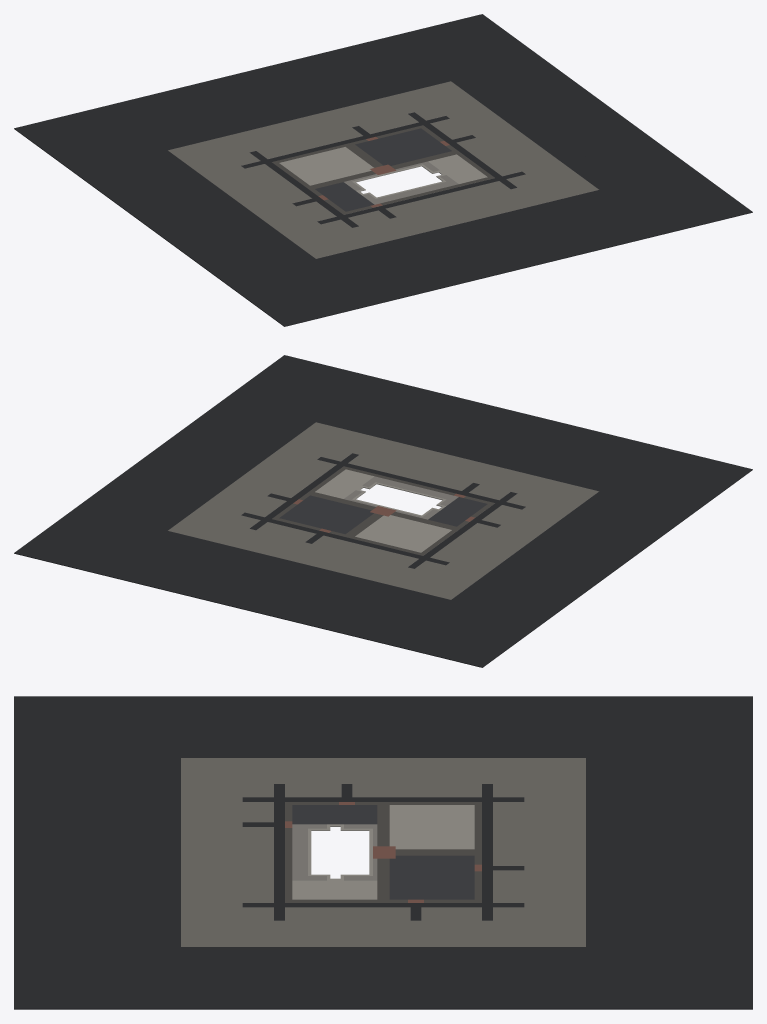
Rendered from HEX_City_01_MAIN_GROUND.fbx.
3 views of the same model, one above another, from view 1: azimuth 30°, elevation 25°; view 2: azimuth 150°, elevation 25°; view 3: azimuth 270°, elevation 25° (orthographic). The views are drawn at different scales.
Parts seen in each view (by area): view 1: City_Street_01, City_Street_02, City_Street_04, City_Street_03, City_Street_05, City_Street_06, City_Sidewalk_01, City_Sidewalk_02, City_Sidewalk_10, City_Sidewalk_09, City_Sidewalk_18, City_Sidewalk_20 (+14 smaller); view 2: City_Street_04, City_Street_03, City_Street_01, City_Street_02, City_Street_05, City_Street_06, City_Sidewalk_09, City_Sidewalk_10, City_Sidewalk_01, City_Sidewalk_02, City_Sidewalk_18, City_Sidewalk_20 (+14 smaller); view 3: City_Street_04, City_Street_02, City_Street_01, City_Street_03, City_Street_06, City_Street_05, City_Sidewalk_01, City_Sidewalk_02, City_Sidewalk_09, City_Sidewalk_10, City_Sidewalk_18, City_Sidewalk_20 (+19 smaller).
Part boxes in pixels (box(x1,y1,x2,y2)): City_Street_01: box(185, 196, 518, 326); City_Street_02: box(420, 139, 752, 269); City_Street_04: box(248, 14, 581, 143); City_Street_03: box(14, 71, 346, 201); City_Street_05: box(113, 162, 343, 253); City_Street_06: box(423, 86, 653, 177); City_Sidewalk_01: box(293, 208, 457, 258); City_Sidewalk_02: box(435, 173, 598, 224); City_Sidewalk_10: box(309, 81, 473, 132); City_Sidewalk_09: box(168, 116, 331, 166); City_Sidewalk_18: box(206, 164, 311, 212); City_Sidewalk_20: box(456, 128, 560, 176); City_Street_04: box(14, 480, 346, 610); City_Street_03: box(248, 537, 581, 667); City_Street_01: box(420, 412, 752, 542); City_Street_02: box(185, 355, 518, 484); City_Street_05: box(423, 503, 653, 594); City_Street_06: box(113, 427, 343, 518); City_Sidewalk_09: box(309, 549, 473, 599); City_Sidewalk_10: box(168, 514, 331, 565); City_Sidewalk_01: box(435, 457, 598, 507); City_Sidewalk_02: box(293, 422, 457, 473); City_Sidewalk_18: box(430, 523, 535, 571); City_Sidewalk_20: box(232, 450, 336, 497); City_Street_04: box(482, 852, 752, 1009); City_Street_02: box(14, 852, 284, 1009); City_Street_01: box(14, 696, 284, 852); City_Street_03: box(482, 696, 752, 852); City_Street_06: box(285, 903, 481, 1009); City_Street_05: box(285, 696, 481, 801); City_Sidewalk_01: box(181, 758, 242, 852); City_Sidewalk_02: box(181, 852, 242, 946); City_Sidewalk_09: box(524, 758, 585, 852); City_Sidewalk_10: box(524, 852, 585, 946); City_Sidewalk_18: box(352, 758, 481, 797); City_Sidewalk_20: box(285, 907, 410, 946).
Size of the model in its own units: 3000 by 4.6 by 3000.
Materials: 1 (1 with a texture image).
